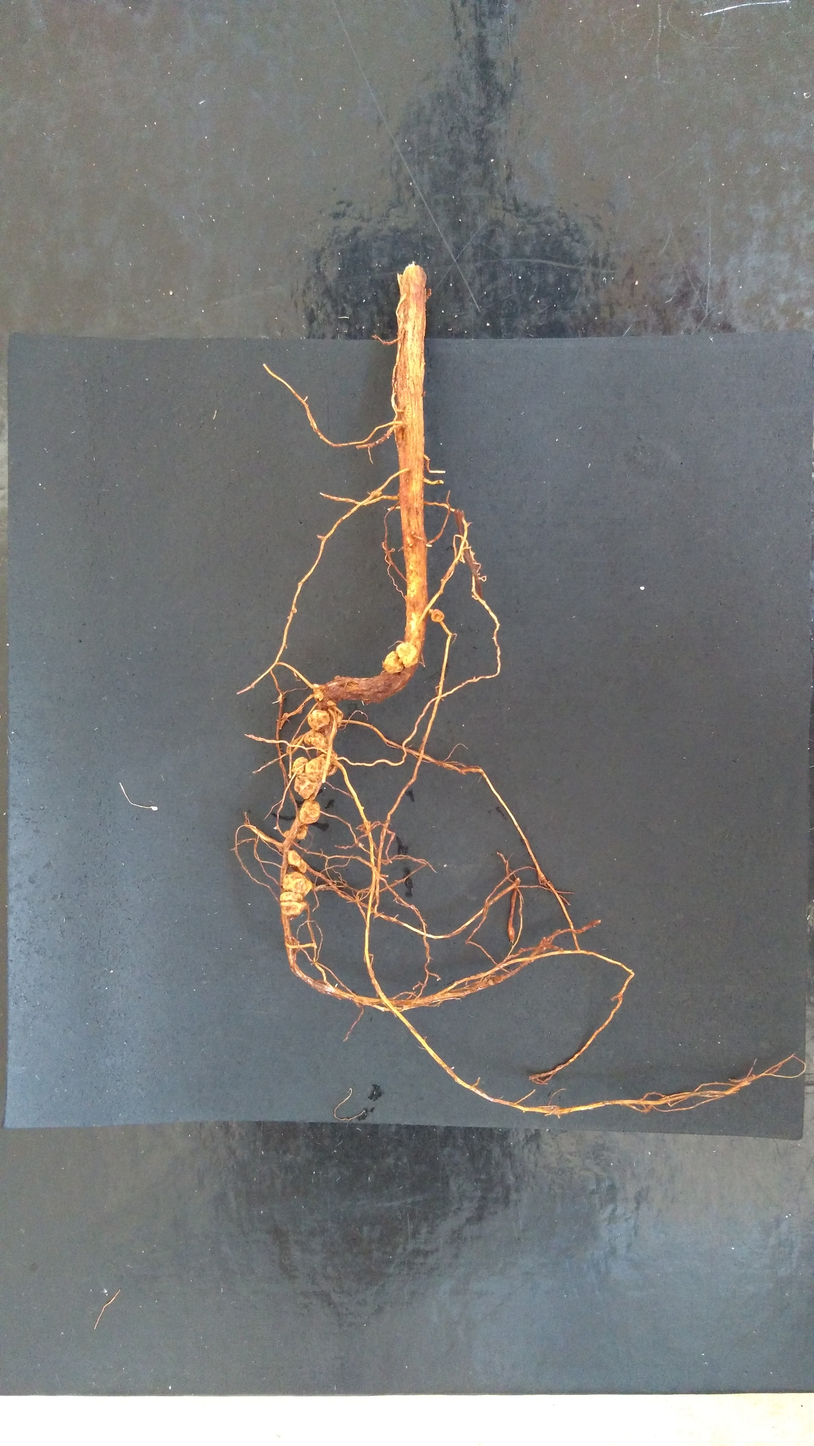nodule: (281, 870, 313, 898), (279, 890, 308, 917), (396, 641, 419, 670), (298, 799, 323, 825), (381, 649, 405, 676), (293, 774, 317, 799), (305, 755, 326, 779), (306, 709, 330, 730), (303, 730, 328, 750), (326, 749, 340, 777), (291, 755, 309, 776), (286, 850, 302, 868), (430, 607, 446, 624), (312, 682, 324, 703), (295, 825, 309, 841), (297, 859, 308, 874), (326, 699, 338, 708)
